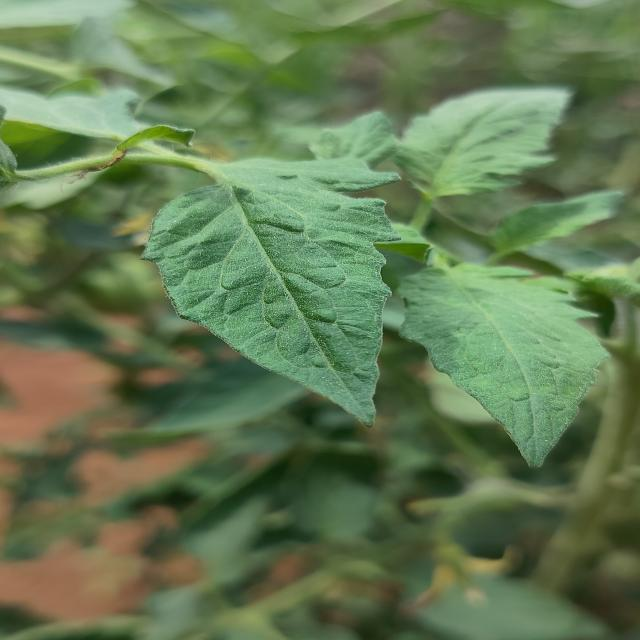tomato_healthy: (128, 154, 397, 428), (356, 251, 633, 472), (401, 82, 602, 198)
